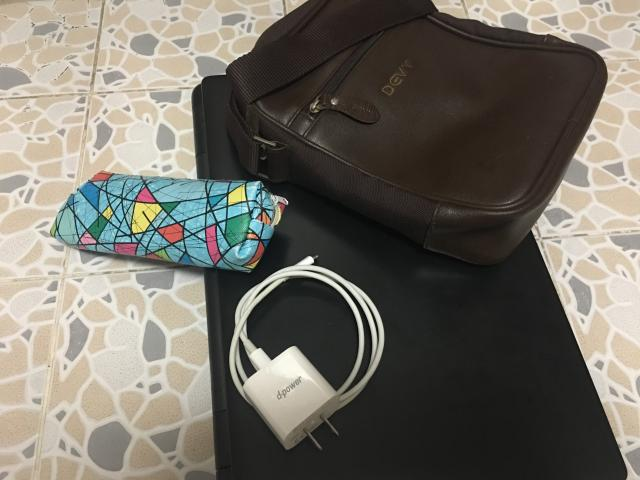wire: (229, 256, 385, 450)
